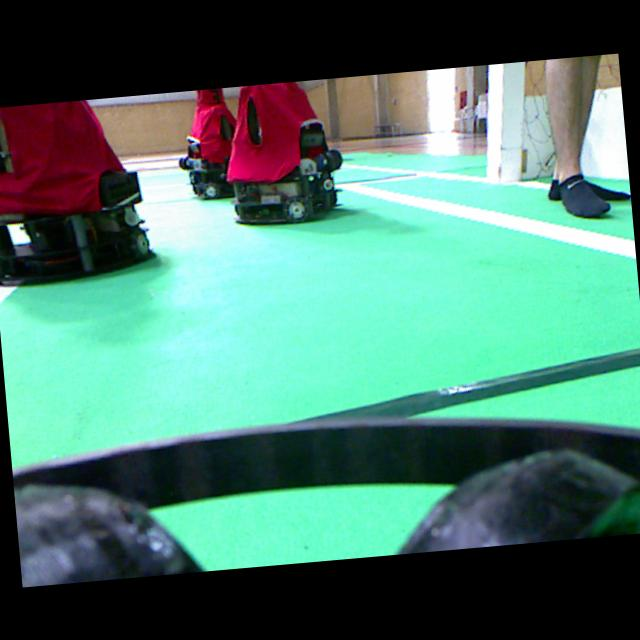goal: (486, 63, 502, 182)
